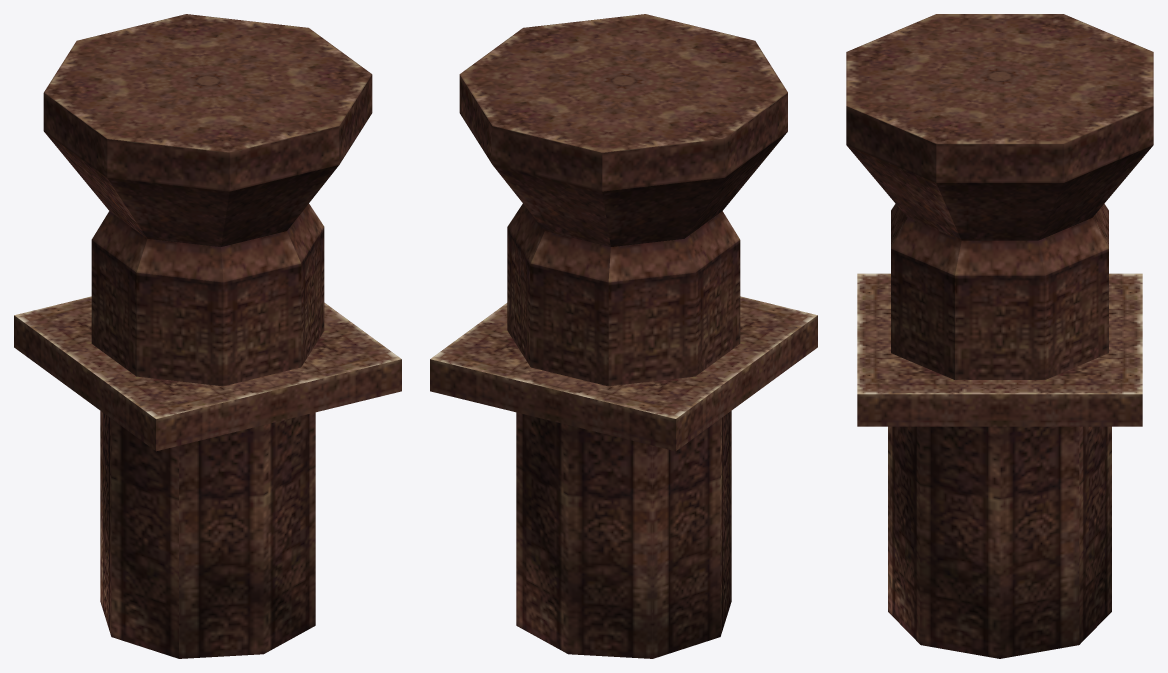
The model's file is general_obj_bigtower07.glb.
3 views of the same model, side by side, from view 1: azimuth 30°, elevation 25°; view 2: azimuth 150°, elevation 25°; view 3: azimuth 270°, elevation 25° (orthographic).
Parts seen in each view (by area): view 1: Sphere01; view 2: Sphere01; view 3: Sphere01.
Part boxes in pixels (bbox=[...]): Sphere01: bbox=[14, 14, 401, 658]; Sphere01: bbox=[430, 14, 817, 658]; Sphere01: bbox=[846, 14, 1153, 658].
Size of the model in its own units: 4.31 by 8.28 by 4.31.
1 material, 1 textured.
